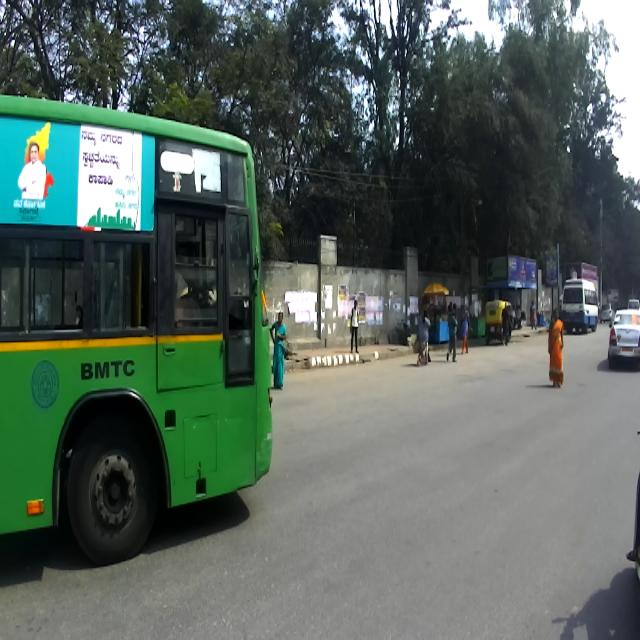bus ahead at: (0, 90, 278, 557)
person ahead at: (544, 299, 568, 394)
